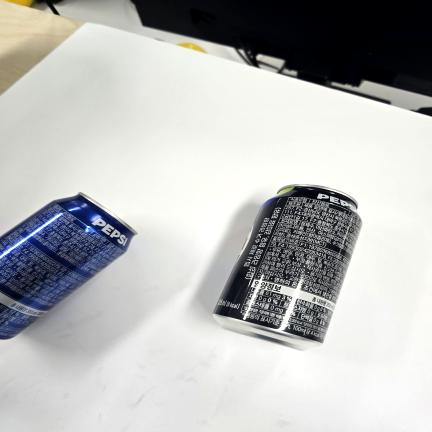can_pepsi: (0, 192, 135, 342)
can_pepsi_zero: (216, 184, 365, 347)
